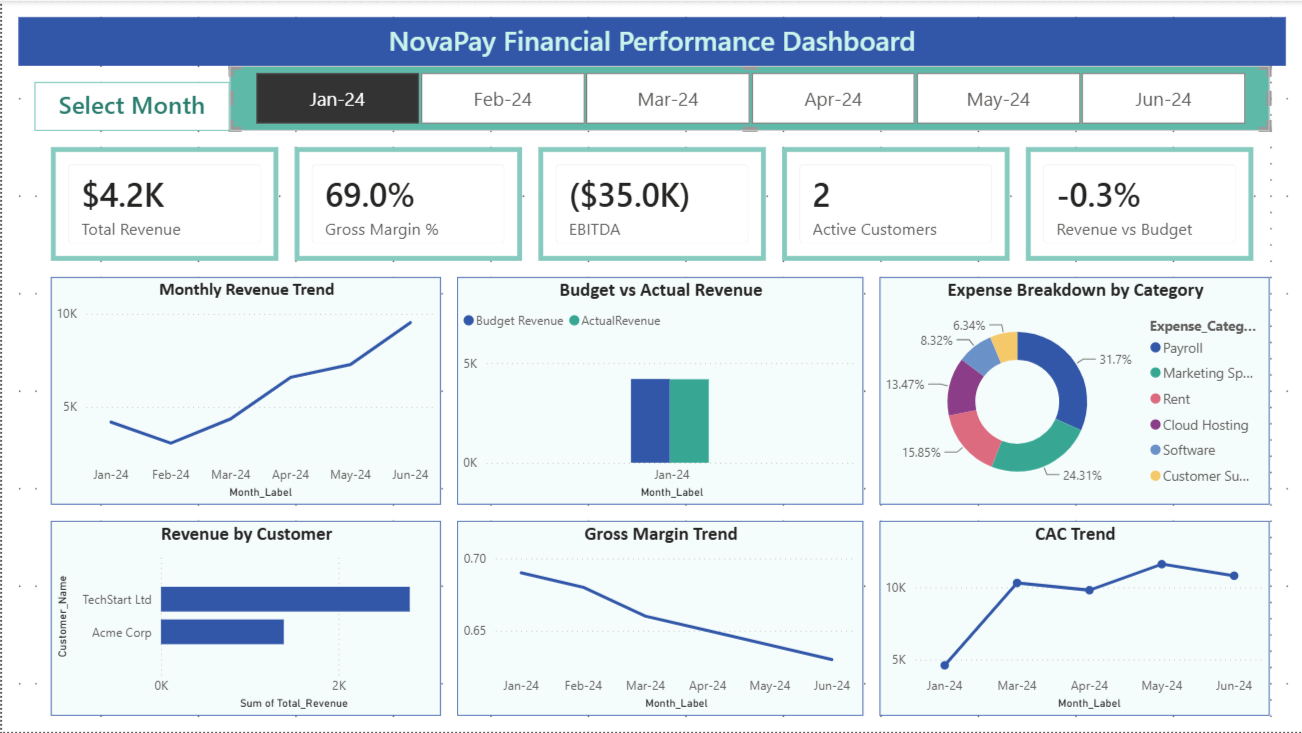

This screenshot's page, from the dashboard's own definition file:
{"tool":"powerbi","page":{"name":"Executive Dashboard","canvas":[1280,720],"ordinal":0},"visuals":[{"type":"slicer","fields":{"Values":["tblDate.Month_Label"]},"box":[224,64,1024,64],"z":0},{"type":"cardVisual","fields":{"Data":["Monthly_Summary.Total Revenue"]},"box":[48,144,224,112],"z":1000},{"type":"cardVisual","fields":{"Data":["Monthly_Summary.Gross Margin %"]},"box":[288,144,224,112],"z":2000},{"type":"cardVisual","fields":{"Data":["Monthly_Summary.Total EBITDA"]},"box":[528,144,224,112],"z":3000},{"type":"cardVisual","fields":{"Data":["tblKPI.Active Customers KPI"]},"box":[768,144,224,112],"z":4000},{"type":"cardVisual","fields":{"Data":["Monthly_Summary.Revenue vs Budget %"]},"box":[1008,144,224,112],"z":5000},{"type":"lineChart","title":"Monthly Revenue Trend","fields":{"Category":["tblDate.Month_Label"],"Y":["Sum(Monthly_Summary.Actual_Revenue)"]},"box":[48,272,384,224],"z":6000},{"type":"clusteredColumnChart","title":"Budget vs Actual Revenue","fields":{"Category":["tblDate.Month_Label"],"Y":["Sum(Budget_vs_Actual.Budget_Revenue)","Sum(Budget_vs_Actual.Actual_Revenue)"]},"box":[448,272,400,224],"z":7000},{"type":"donutChart","title":"Expense Breakdown by Category","fields":{"Category":["tblExpenses.Expense_Category"],"Y":["Sum(tblExpenses.Actual_Expense)"]},"box":[864,272,384,224],"z":8000},{"type":"barChart","title":"Revenue by Customer","fields":{"Category":["tblCustomers.Customer_Name"],"Y":["Sum(tblRevenue.Total_Revenue)"]},"box":[48,512,384,192],"z":9000},{"type":"lineChart","title":"Gross Margin Trend","fields":{"Category":["tblDate.Month_Label"],"Y":["Avg(tblKPI.Gross_Margin)"]},"box":[448,512,400,192],"z":10000},{"type":"lineChart","title":"CAC Trend","fields":{"Category":["tblDate.Month_Label"],"Y":["Avg(tblKPI.CAC)"]},"box":[864,512,384,192],"z":11000},{"type":"textbox","box":[32,80,192,48],"z":12000},{"type":"textbox","box":[16,16,1248,48],"z":13000}]}

Visuals, with their boxes in screenshot pixels (x1, y1, x2, y2), scaled from the page's 1280x720 canvas onto the 1302x733 screenshot:
slicer - tblDate.Month_Label: (x1=228, y1=65, x2=1269, y2=130)
cardVisual - Monthly_Summary.Total Revenue: (x1=49, y1=147, x2=277, y2=261)
cardVisual - Monthly_Summary.Gross Margin %: (x1=293, y1=147, x2=521, y2=261)
cardVisual - Monthly_Summary.Total EBITDA: (x1=537, y1=147, x2=765, y2=261)
cardVisual - tblKPI.Active Customers KPI: (x1=781, y1=147, x2=1009, y2=261)
cardVisual - Monthly_Summary.Revenue vs Budget %: (x1=1025, y1=147, x2=1253, y2=261)
"Monthly Revenue Trend" lineChart: (x1=49, y1=277, x2=439, y2=505)
"Budget vs Actual Revenue" clusteredColumnChart: (x1=456, y1=277, x2=863, y2=505)
"Expense Breakdown by Category" donutChart: (x1=879, y1=277, x2=1269, y2=505)
"Revenue by Customer" barChart: (x1=49, y1=521, x2=439, y2=717)
"Gross Margin Trend" lineChart: (x1=456, y1=521, x2=863, y2=717)
"CAC Trend" lineChart: (x1=879, y1=521, x2=1269, y2=717)
textbox: (x1=33, y1=81, x2=228, y2=130)
textbox: (x1=16, y1=16, x2=1286, y2=65)
